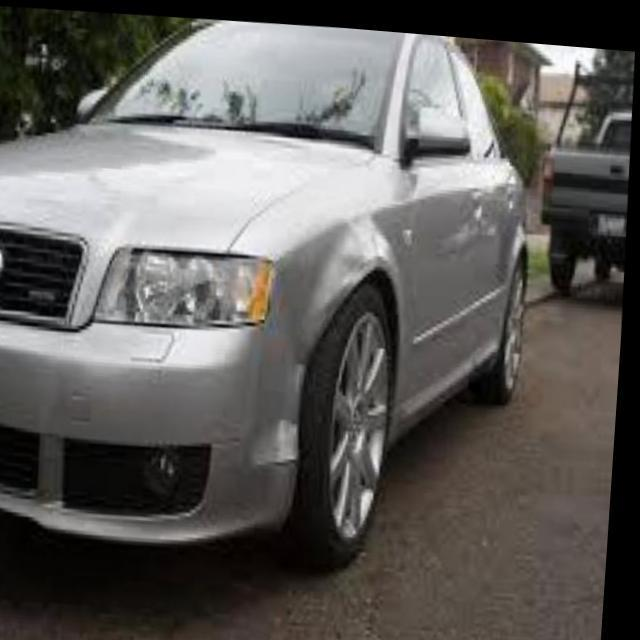dent: (253, 202, 369, 465)
